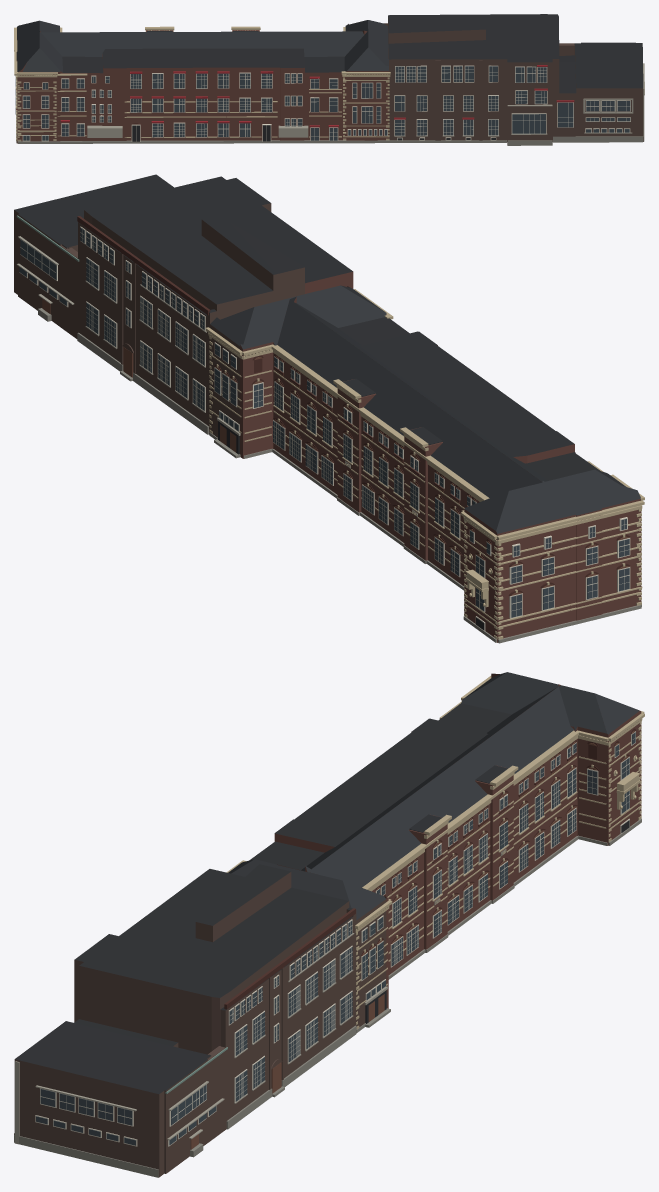
Rendered from kweekschool-machinisten.glb.
3 renders of one model, top to bottom at view 1: azimuth 30°, elevation 25°; view 2: azimuth 150°, elevation 25°; view 3: azimuth 270°, elevation 25°, orthographic. The views are drawn at different scales.
Parts seen in each view (by area): view 1: kweekschool-machinisten; view 2: kweekschool-machinisten; view 3: kweekschool-machinisten.
Boxes of the visible parts, box(x1,y1,x2,y2) form: kweekschool-machinisten: box(14, 14, 644, 145); kweekschool-machinisten: box(14, 174, 644, 643); kweekschool-machinisten: box(14, 672, 644, 1177).
Bounding box in the file's own units: 105 × 18.2 × 71.25.
